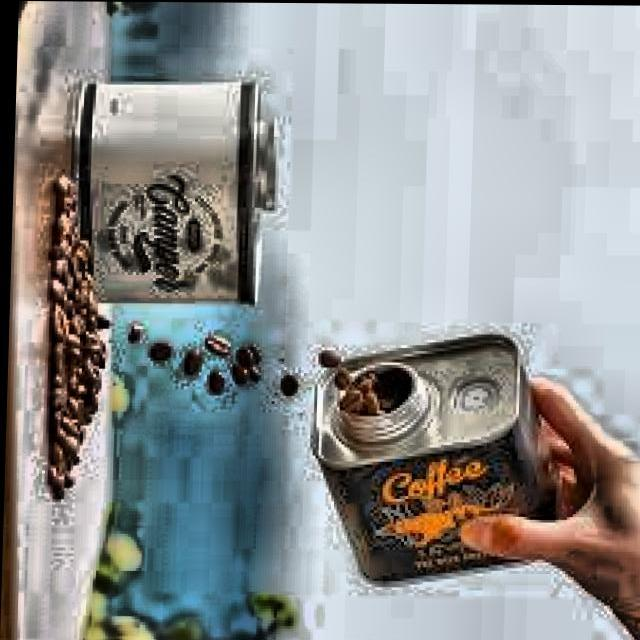Aluminum Can: (298, 330, 574, 591), (56, 73, 286, 314)
